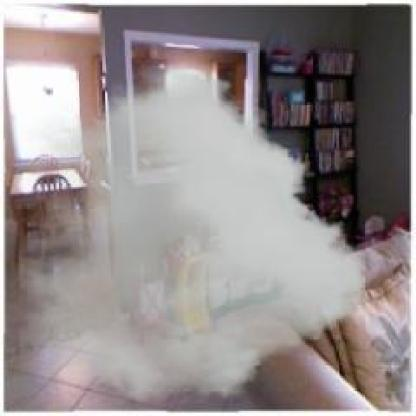Smoke: (18, 65, 367, 403)
